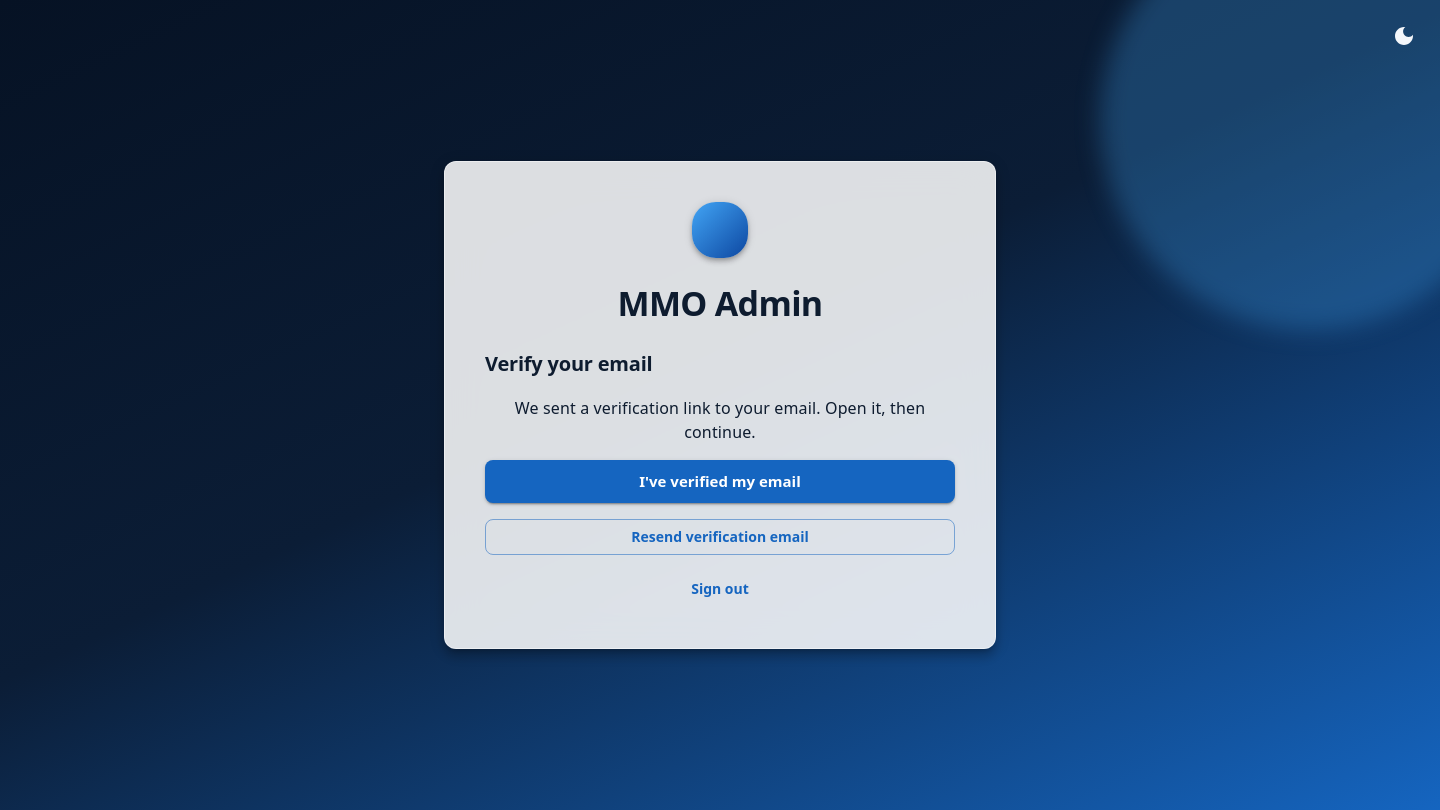
Test: VerifyEmailPage › resends the verification email
Click the button "Resend verification email" at (720, 537), box [485,519,955,555]
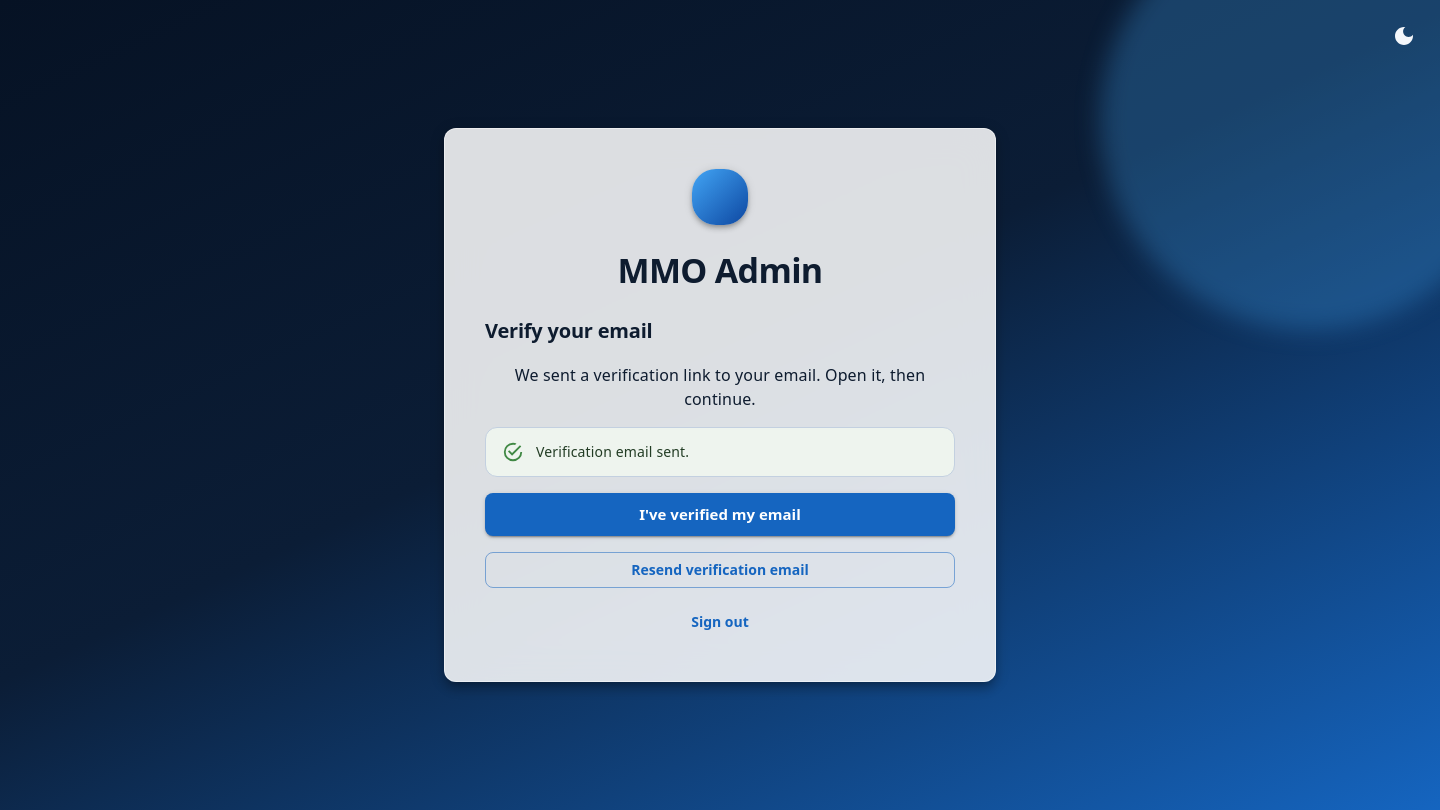
Now the message with test id "auth-success" reads "Verification email sent.", box [536,442,689,461]
